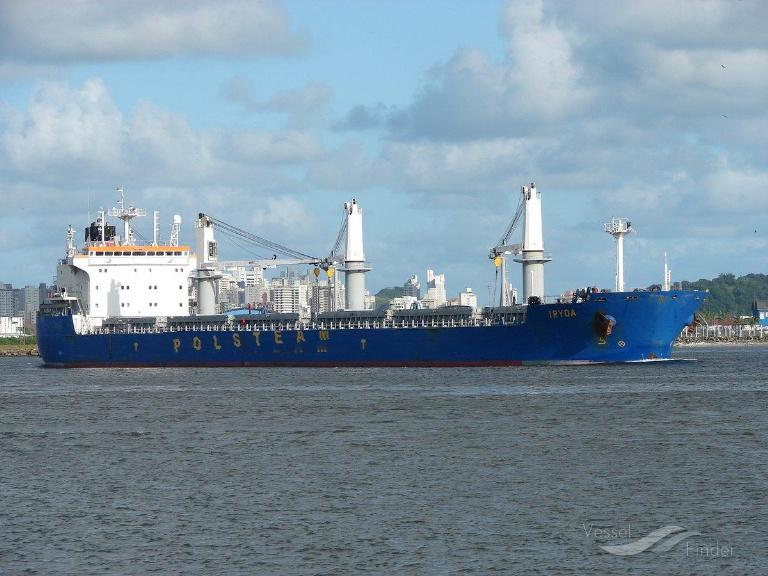OCR: (156, 331, 338, 362)
